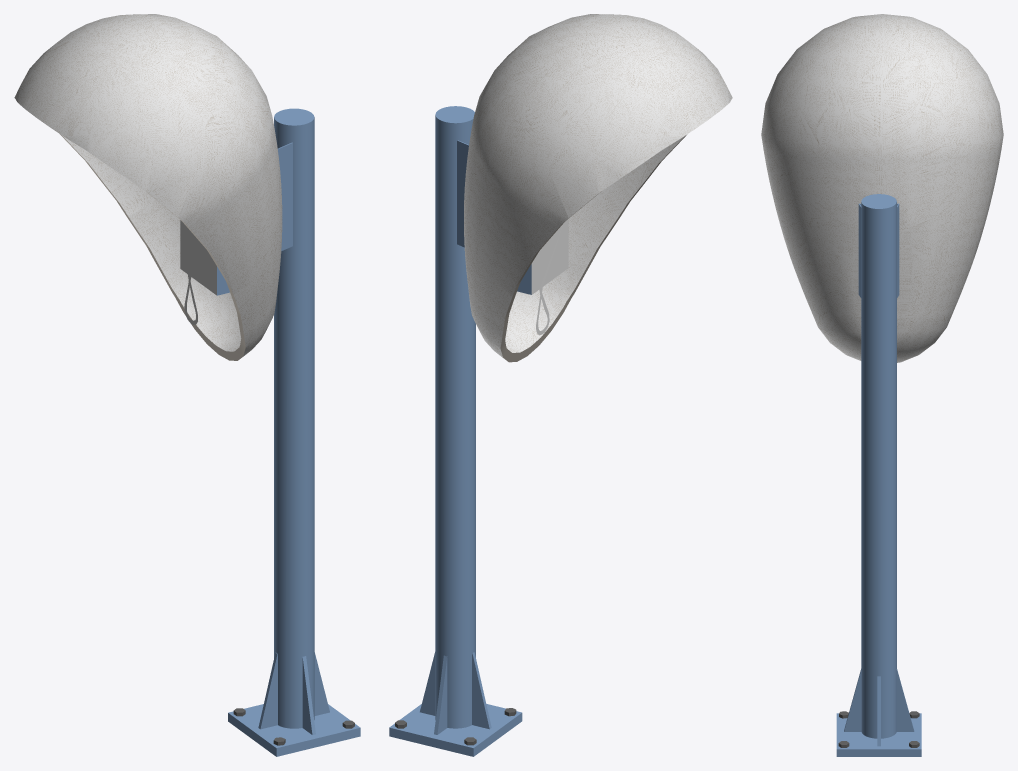
3 renders of one model, left to right at view 1: azimuth 30°, elevation 25°; view 2: azimuth 150°, elevation 25°; view 3: azimuth 270°, elevation 25°, orthographic. The views are drawn at different scales.
Parts seen in each view (by area): view 1: group_1.001, group_2.010, group_2.006, group_3, group_1, group_2.004, group_2.009, group_2.001; view 2: group_1.001, group_2.010, group_2.006, group_3, group_1, group_2.004, group_2.009, group_2.007, group_2.002; view 3: group_1.001, group_2.010, group_2.006, group_2.004, group_2.007, group_2.001.
Part boxes in pixels (x1=…): group_1.001: x1=14, y1=14, x2=282, y2=359; group_2.010: x1=274, y1=108, x2=314, y2=728; group_2.006: x1=228, y1=704, x2=360, y2=756; group_3: x1=180, y1=220, x2=216, y2=324; group_1: x1=60, y1=134, x2=245, y2=360; group_2.004: x1=278, y1=143, x2=292, y2=250; group_2.009: x1=258, y1=652, x2=277, y2=729; group_2.001: x1=302, y1=656, x2=315, y2=735; group_1.001: x1=464, y1=14, x2=732, y2=360; group_2.010: x1=435, y1=106, x2=475, y2=728; group_2.006: x1=389, y1=704, x2=522, y2=756; group_3: x1=531, y1=219, x2=568, y2=335; group_1: x1=500, y1=135, x2=686, y2=362; group_2.004: x1=457, y1=140, x2=468, y2=247; group_2.009: x1=472, y1=652, x2=491, y2=729; group_2.007: x1=434, y1=655, x2=447, y2=734; group_2.002: x1=420, y1=652, x2=435, y2=715; group_1.001: x1=761, y1=14, x2=1003, y2=362; group_2.010: x1=861, y1=194, x2=896, y2=738; group_2.006: x1=836, y1=713, x2=921, y2=756; group_2.004: x1=858, y1=204, x2=899, y2=297; group_2.007: x1=896, y1=669, x2=914, y2=731; group_2.001: x1=844, y1=669, x2=861, y2=731.
Bounding box in the file's own units: 3 × 2.4 × 7.08.
